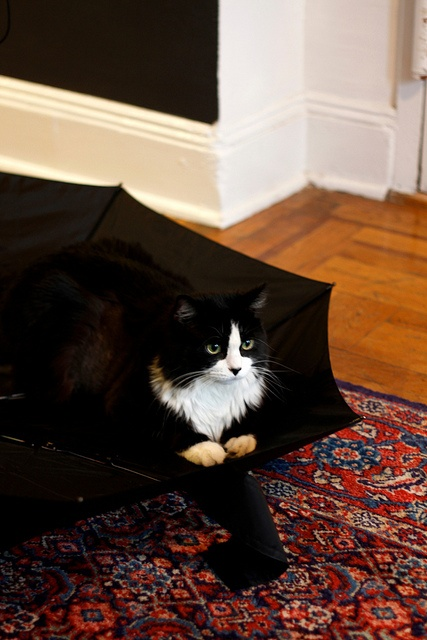cat: (4, 236, 280, 640)
